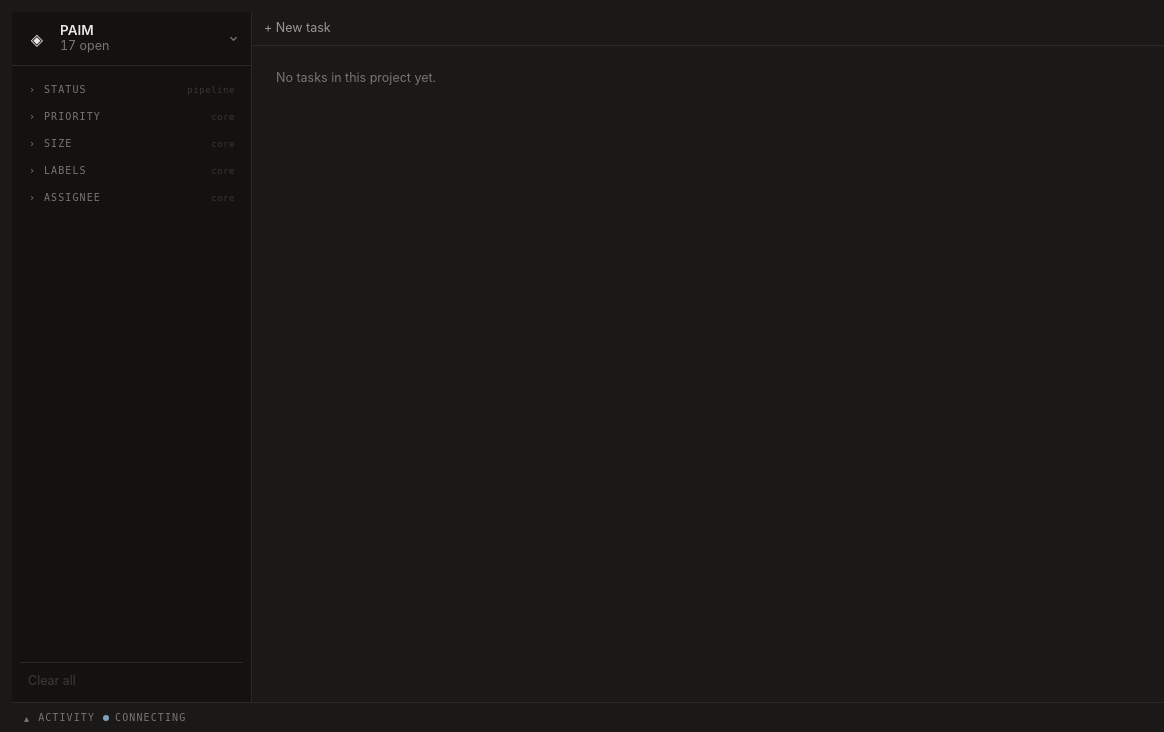
Test: workspace switcher › closes on Escape
Click the button "◈ PAIM 17 open" at (132, 39), box [12,12,251,66]
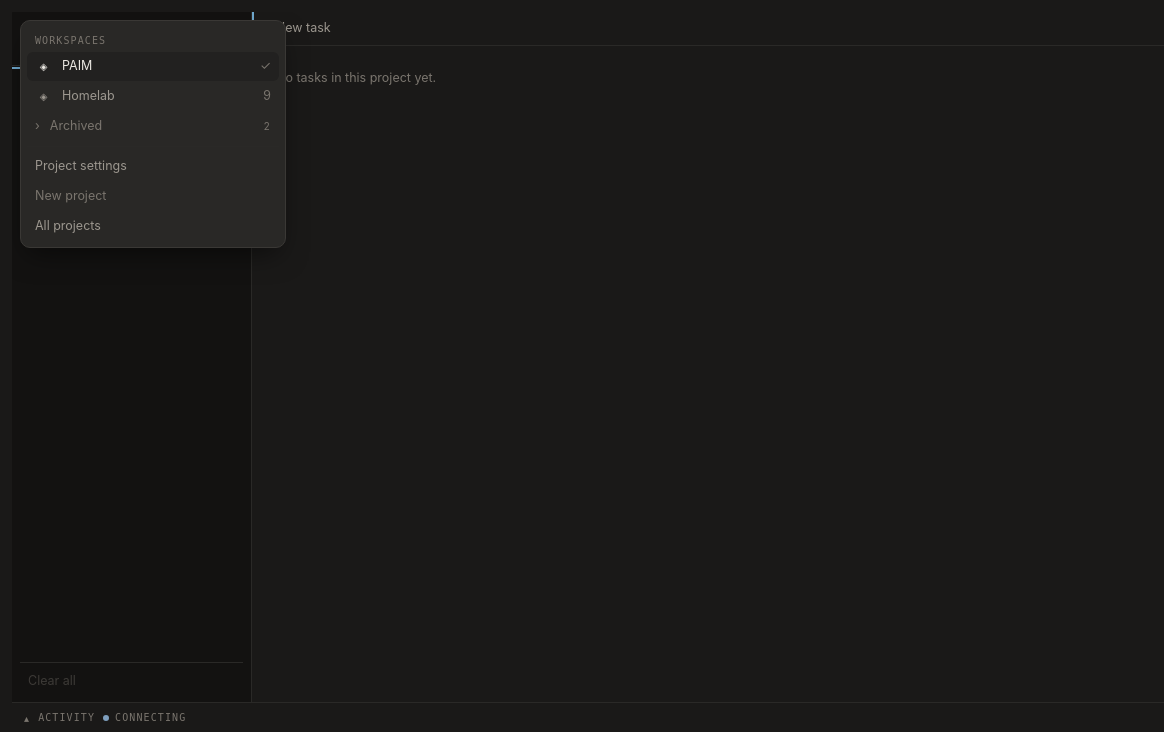
Press Escape
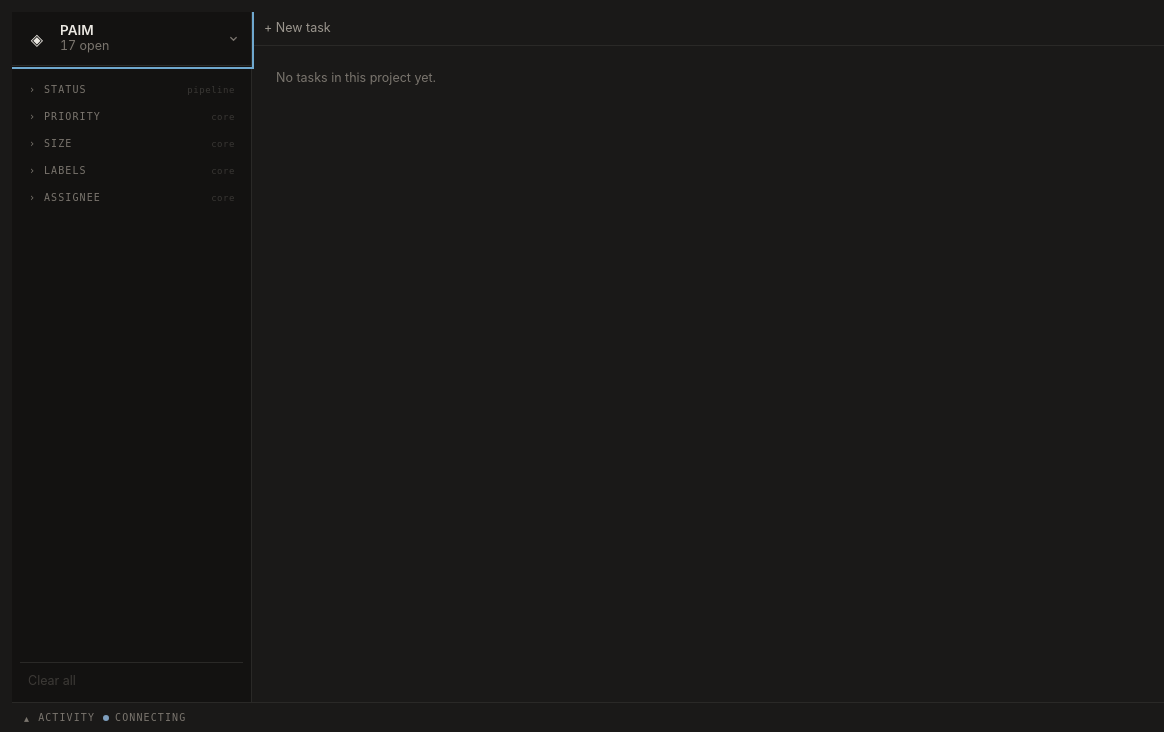
Result: the text "Workspaces" is gone
